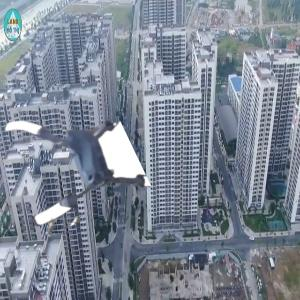drone: (4, 95, 133, 224)
